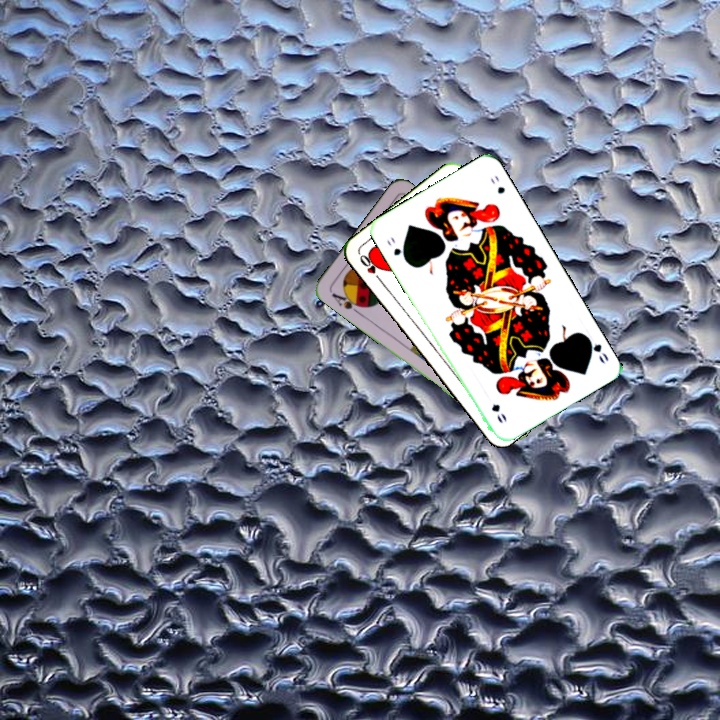GO: (581, 331, 611, 366), (383, 233, 410, 265)
HO: (355, 250, 385, 285)
SA: (327, 287, 366, 317)
